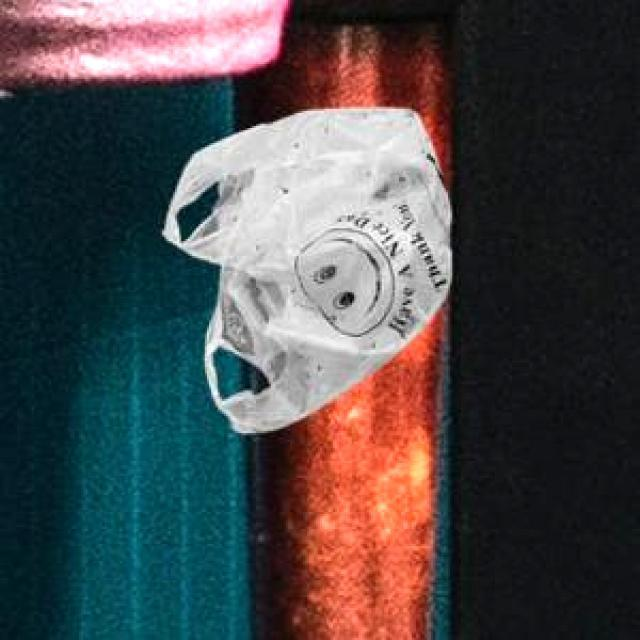Plastic_Bag: (159, 105, 449, 430)
